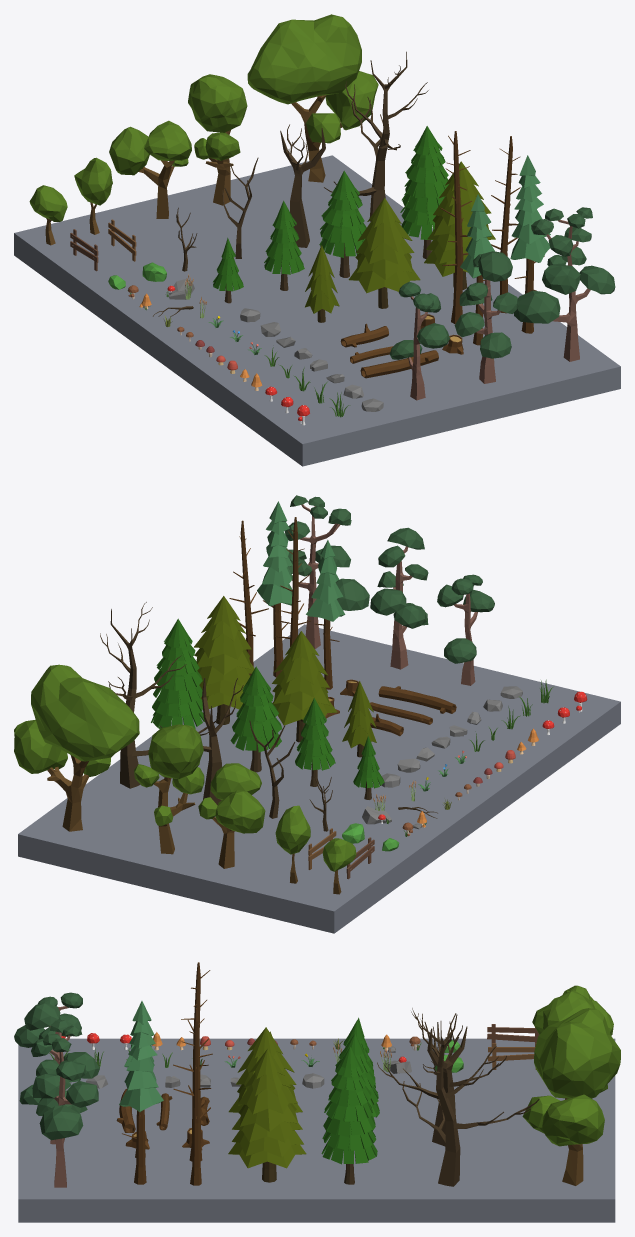
The model's file is NaturePack1.gltf.
3 renders of one model, top to bottom at view 1: azimuth 30°, elevation 25°; view 2: azimuth 150°, elevation 25°; view 3: azimuth 270°, elevation 25°, orthographic. The views are drawn at different scales.
Parts seen in each view (by area): view 1: BG, Tree1_1, Tree6_1, Tree1_2, Tree4_2, Tree6_2, Tree1_3, Tree3_1, Tree4_1, Tree3_2, Tree5_3, Tree6_3 (+12 smaller); view 2: BG, Tree1_1, Tree1_2, Tree4_1, Tree3_1, Tree6_1, Tree1_3, Tree6_2, Tree4_2, Tree3_2, Tree5_3, Tree6_3 (+12 smaller); view 3: BG, Tree1_1, Tree4_1, Tree6_1, Tree3_1, Tree5_3, Tree2_1, Tree6_2, Tree4_2, Tree5_1, Tree2_2, Tree1_2 (+8 smaller).
Boxes of the visible parts, bbox=[...] form: BG: bbox=[14, 155, 620, 466]; Tree1_1: bbox=[247, 14, 378, 182]; Tree6_1: bbox=[514, 207, 615, 361]; Tree1_2: bbox=[188, 74, 247, 205]; Tree4_2: bbox=[348, 197, 420, 308]; Tree6_2: bbox=[454, 251, 518, 383]; Tree1_3: bbox=[109, 120, 191, 218]; Tree3_1: bbox=[400, 126, 448, 258]; Tree4_1: bbox=[424, 161, 495, 289]; Tree3_2: bbox=[319, 170, 366, 277]; Tree5_3: bbox=[510, 155, 550, 333]; Tree6_3: bbox=[389, 281, 449, 400]; BG: bbox=[18, 624, 620, 933]; Tree1_1: bbox=[14, 664, 139, 831]; Tree1_2: bbox=[134, 724, 204, 854]; Tree4_1: bbox=[194, 596, 254, 724]; Tree3_1: bbox=[151, 618, 204, 728]; Tree6_1: bbox=[284, 495, 369, 649]; Tree1_3: bbox=[198, 763, 265, 868]; Tree6_2: bbox=[370, 527, 428, 669]; Tree4_2: bbox=[272, 631, 337, 742]; Tree3_2: bbox=[230, 666, 282, 772]; Tree5_3: bbox=[257, 501, 292, 677]; Tree6_3: bbox=[437, 574, 494, 685]; BG: bbox=[18, 1038, 615, 1222]; Tree1_1: bbox=[522, 1008, 620, 1185]; Tree4_1: bbox=[228, 1048, 306, 1182]; Tree6_1: bbox=[31, 1020, 98, 1187]; Tree3_1: bbox=[321, 1046, 377, 1184]; Tree5_3: bbox=[119, 1001, 163, 1184]; Tree2_1: bbox=[377, 1008, 539, 1186]; Tree6_2: bbox=[19, 1003, 99, 1144]; Tree4_2: bbox=[228, 1027, 302, 1114]; Tree5_1: bbox=[173, 1008, 212, 1185]; Tree2_2: bbox=[417, 1013, 506, 1146]; Tree1_2: bbox=[543, 990, 607, 1092].
Size of what is drawn, in the model's own units: 16.41 by 9.78 by 24.42.
